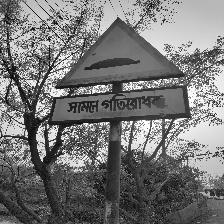Speed-breaker: (52, 16, 192, 125)
